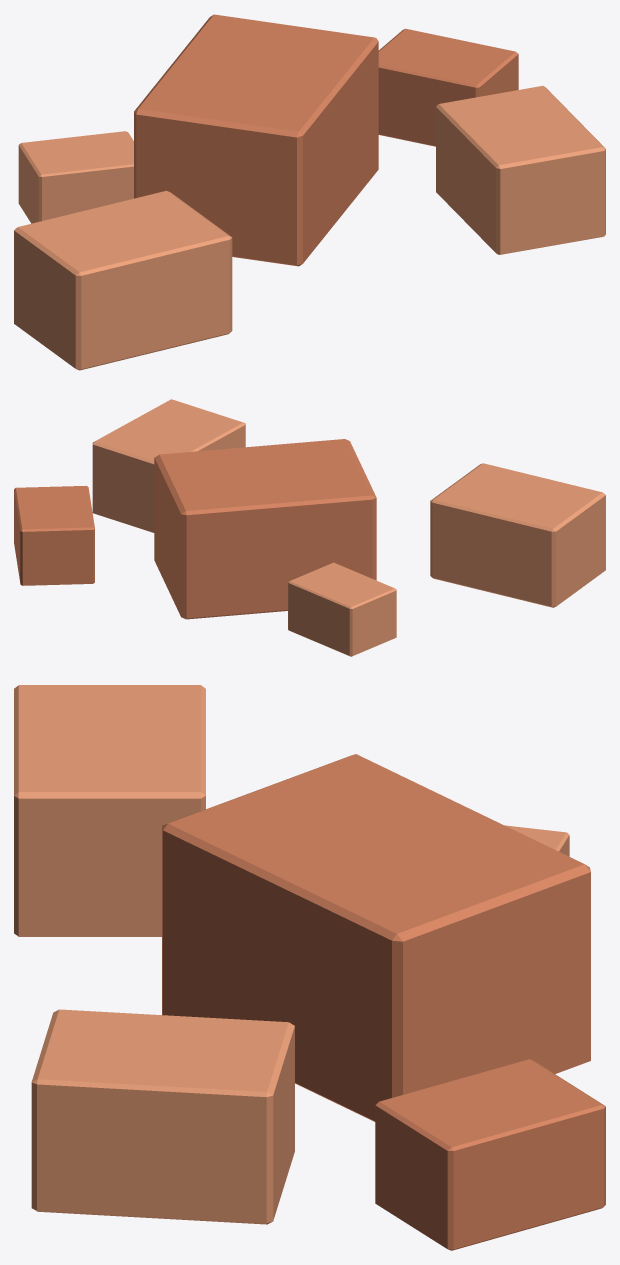
Rendered from rubble_cluster.glb.
3 views of the same model, one above another, from view 1: azimuth 30°, elevation 25°; view 2: azimuth 150°, elevation 25°; view 3: azimuth 270°, elevation 25° (orthographic). The views are drawn at different scales.
Parts seen in each view (by area): view 1: Clay fragment.006, Clay fragment.005, Clay fragment.007, Clay fragment.008, Clay fragment.009; view 2: Clay fragment.006, Clay fragment.005, Clay fragment.007, Clay fragment.009, Clay fragment.008; view 3: Clay fragment.006, Clay fragment.007, Clay fragment.005, Clay fragment.008, Clay fragment.009.
Boxes of the visible parts, x1,y1,x2,y2 form: Clay fragment.006: (134, 14, 378, 266); Clay fragment.005: (14, 190, 232, 370); Clay fragment.007: (436, 85, 605, 254); Clay fragment.008: (378, 28, 518, 146); Clay fragment.009: (18, 131, 133, 223); Clay fragment.006: (154, 439, 376, 619); Clay fragment.005: (430, 463, 605, 607); Clay fragment.007: (92, 399, 245, 532); Clay fragment.009: (288, 562, 396, 656); Clay fragment.008: (14, 485, 94, 585); Clay fragment.006: (162, 754, 590, 1121); Clay fragment.007: (31, 1009, 294, 1224); Clay fragment.005: (14, 685, 205, 936); Clay fragment.008: (375, 1059, 605, 1250); Clay fragment.009: (505, 825, 569, 856).
Bounding box in the file's own units: 1.32 × 0.2932 × 0.7774.
